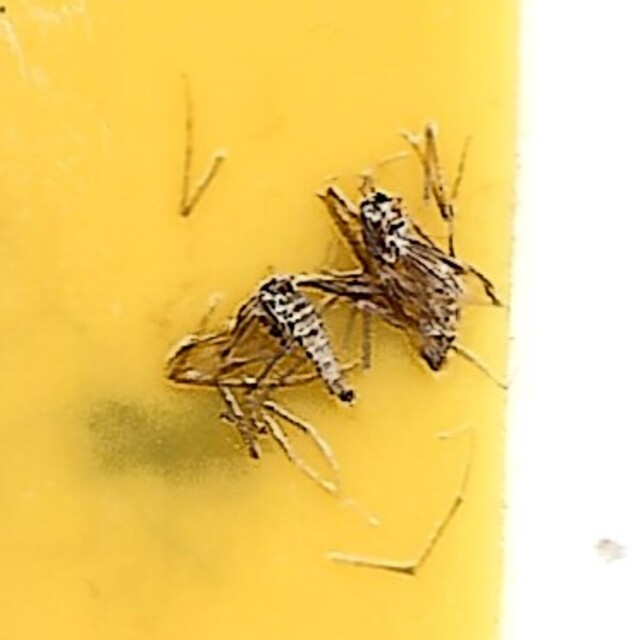Nematocera: (172, 264, 411, 462), (306, 178, 468, 392)
